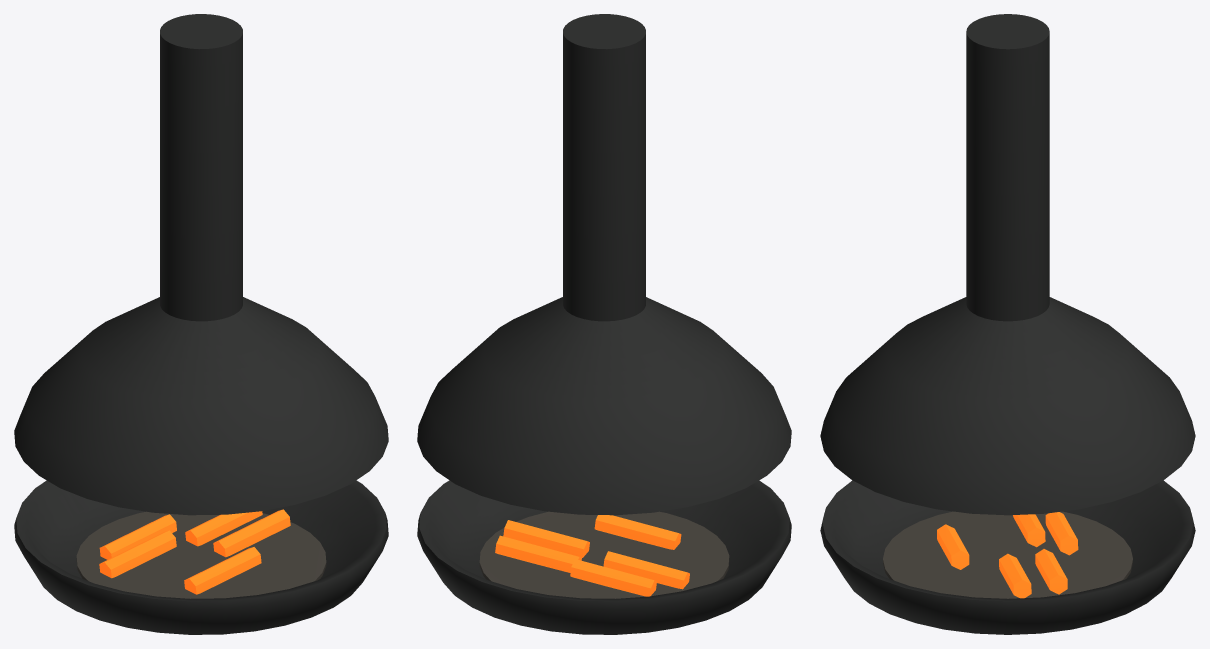
File: floating-fireplace-lod1.glb
3 renders of one model, left to right at view 1: azimuth 30°, elevation 25°; view 2: azimuth 150°, elevation 25°; view 3: azimuth 270°, elevation 25°, orthographic.
Visible parts, largest first — view 1: floating-fireplace.lod1__fireplace graphite, floating-fireplace.lod1__fireplace ash, floating-fireplace.lod1__fireplace ember; view 2: floating-fireplace.lod1__fireplace graphite, floating-fireplace.lod1__fireplace ash, floating-fireplace.lod1__fireplace ember; view 3: floating-fireplace.lod1__fireplace graphite, floating-fireplace.lod1__fireplace ash, floating-fireplace.lod1__fireplace ember.
Part boxes in pixels (x1,y1,x2,y2): floating-fireplace.lod1__fireplace graphite: (14, 14, 388, 634); floating-fireplace.lod1__fireplace ash: (76, 511, 326, 598); floating-fireplace.lod1__fireplace ember: (99, 509, 290, 594); floating-fireplace.lod1__fireplace graphite: (417, 14, 791, 634); floating-fireplace.lod1__fireplace ash: (479, 511, 729, 598); floating-fireplace.lod1__fireplace ember: (495, 515, 689, 596); floating-fireplace.lod1__fireplace graphite: (820, 14, 1195, 634); floating-fireplace.lod1__fireplace ash: (883, 511, 1132, 598); floating-fireplace.lod1__fireplace ember: (937, 512, 1078, 598).
Size of the model in its own units: 0.9 by 1.49 by 0.9.
